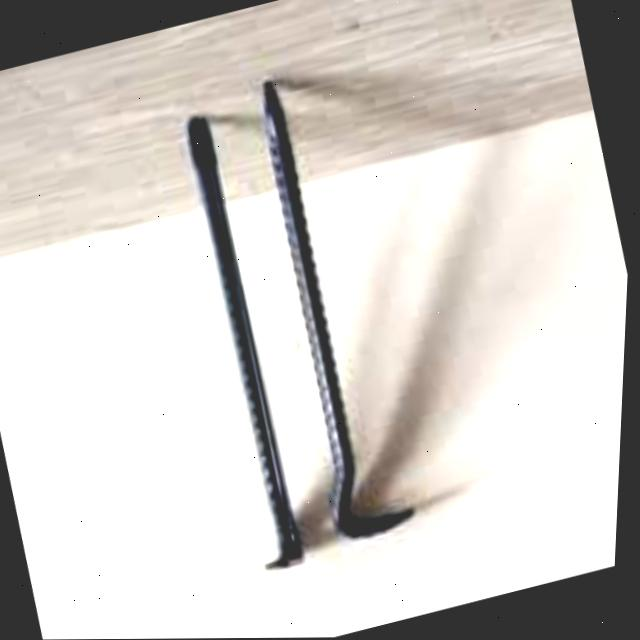crow bar: (135, 102, 359, 613), (209, 56, 433, 553)
